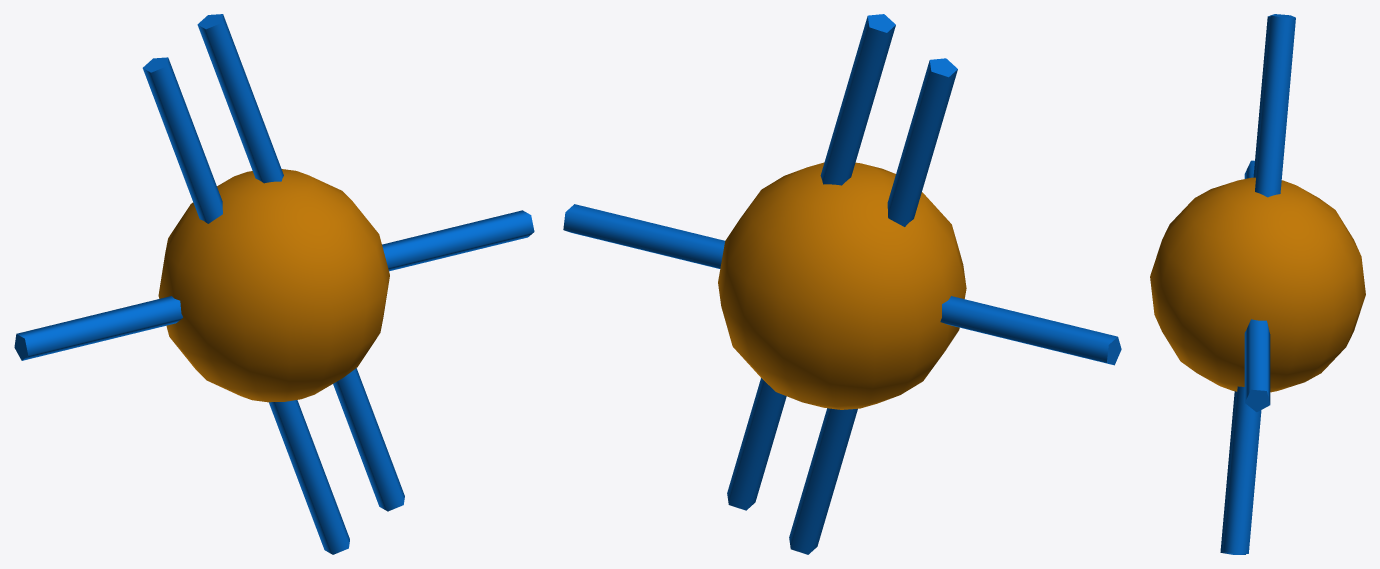
The model's file is proj1.FBX.
3 renders of one model, left to right at view 1: azimuth 30°, elevation 25°; view 2: azimuth 150°, elevation 25°; view 3: azimuth 270°, elevation 25°, orthographic. The views are drawn at different scales.
Parts seen in each view (by area): view 1: proj1; view 2: proj1; view 3: proj1.
Boxes of the visible parts, x1,y1,x2,y2 form: proj1: [14, 14, 534, 554]; proj1: [563, 14, 1121, 554]; proj1: [1150, 14, 1365, 554].
Size of the model in its own units: 40 by 15.93 by 40.65.
